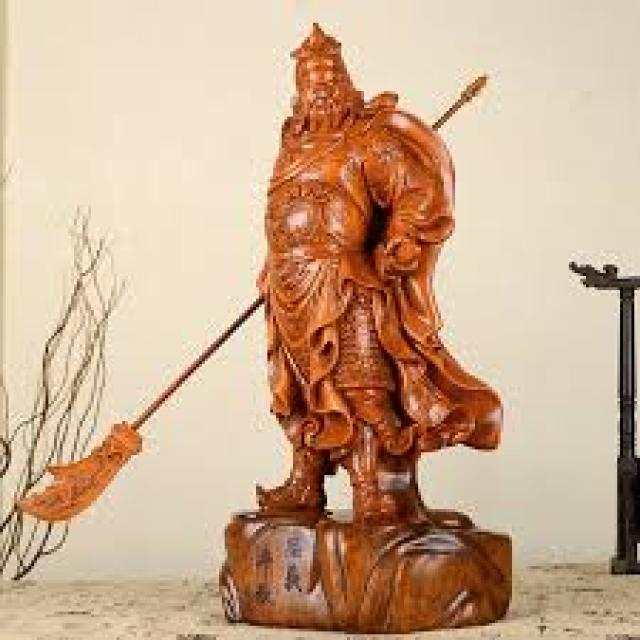Guan Yu: (253, 20, 451, 425)
